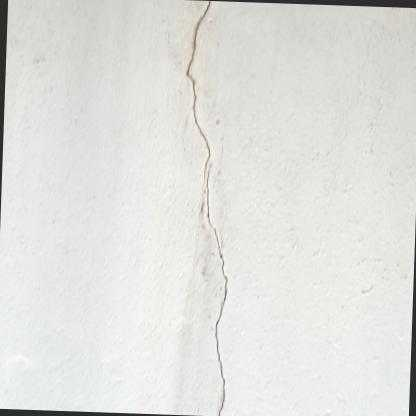crack: (186, 0, 210, 181), (206, 170, 227, 306), (215, 306, 224, 416)
